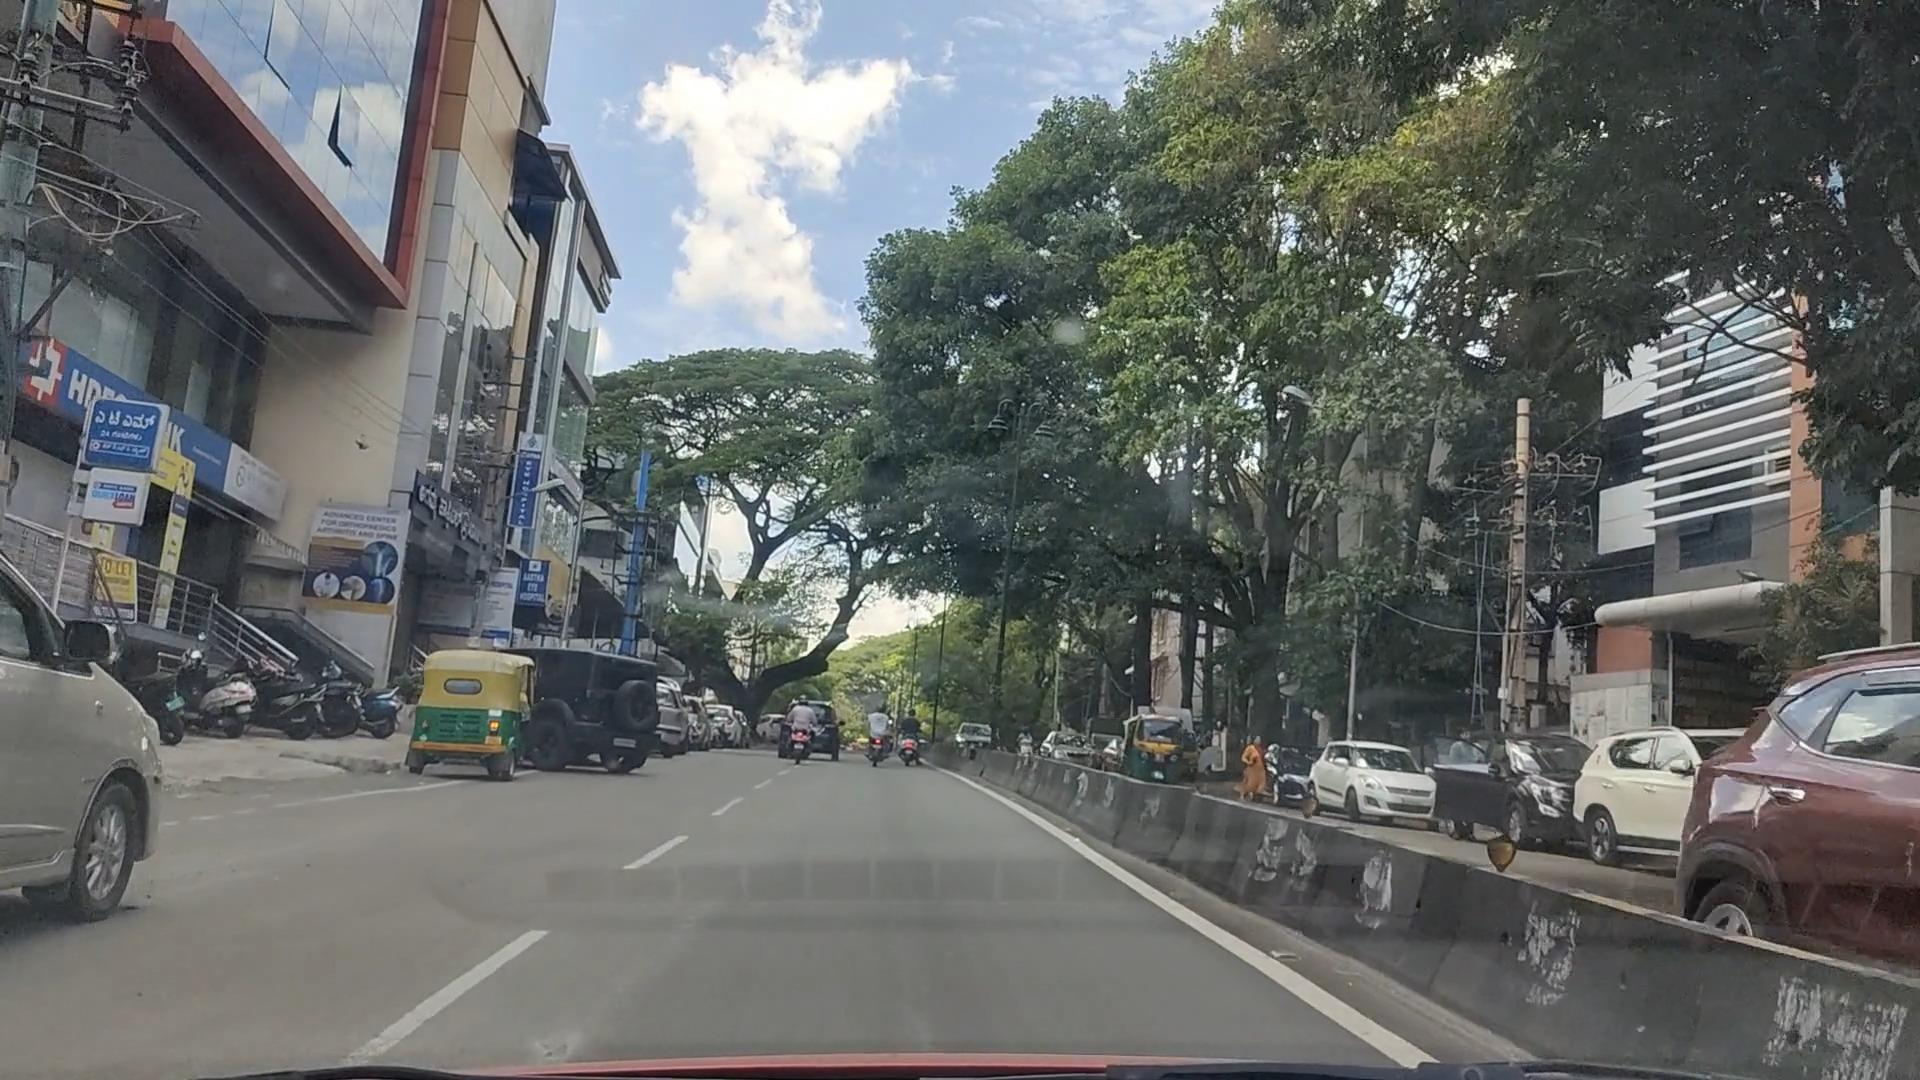RoadDamages: (468, 1007, 624, 1072)
